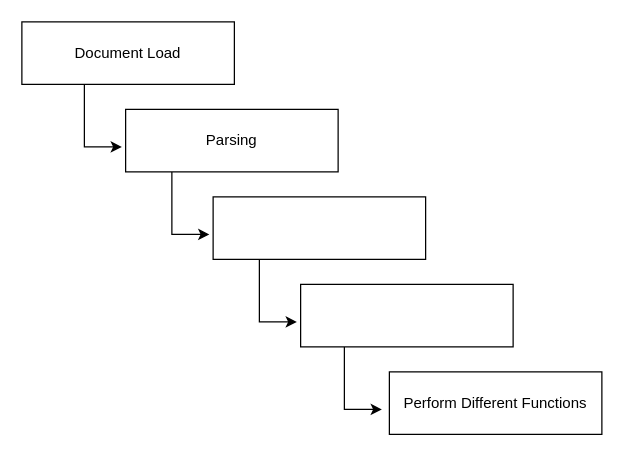
Some shapes in this 624 by 456 pixel diagram are drawn without their labels. Here are the shapes that lost their labels. From the top down, the box of each, then its label:
(212, 196, 426, 259): Extraction
(299, 283, 513, 347): GUI
